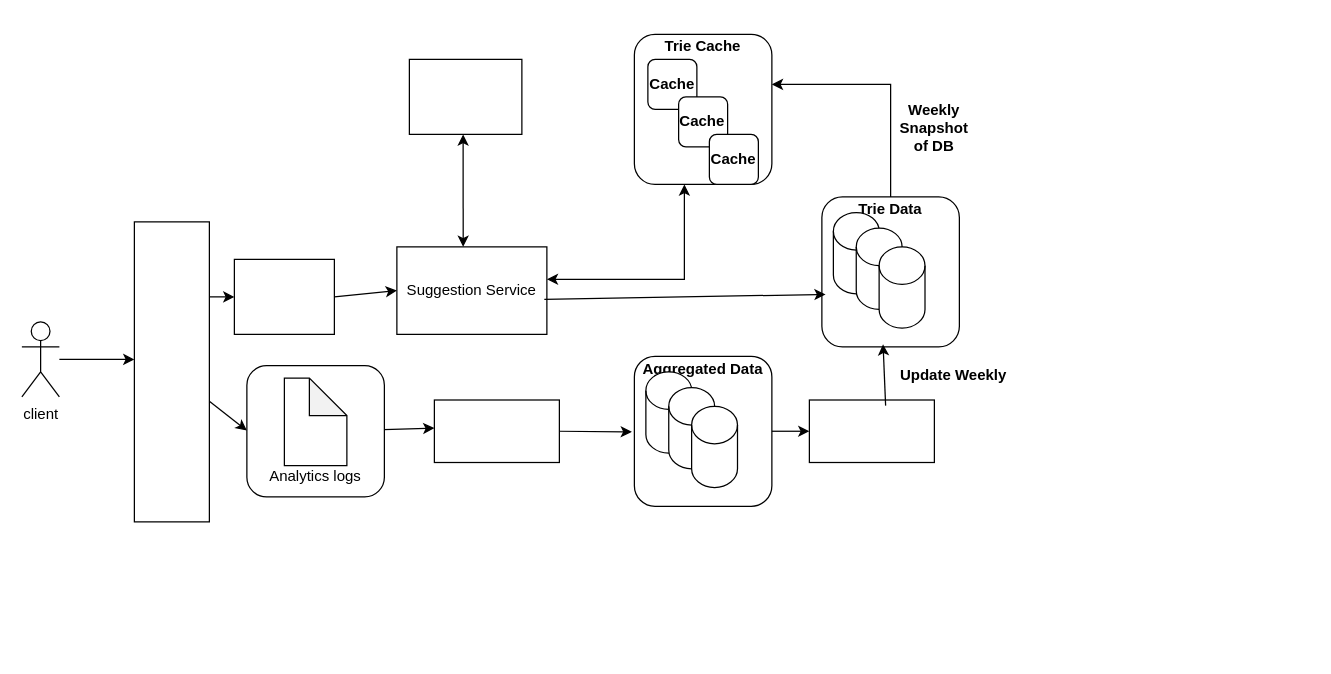
The diagram is 1331 pixels wide and 674 high, and some of its shapes have lost their labels. The centre of each missing label's shape, as x and y in pixels:
"Aggregators" goes at (x=496, y=430).
"API gateway" goes at (x=171, y=371).
"Load Balancer" goes at (x=283, y=296).
"workers" goes at (x=871, y=430).
"Zoo-Keeper (Shard map Manager)" goes at (x=465, y=96).
